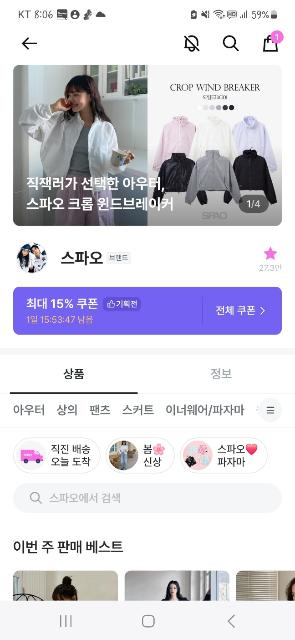Card: (14, 288, 282, 334)
EditText: (13, 484, 283, 512)
Icon: (263, 31, 285, 51), (182, 35, 202, 53), (223, 34, 238, 51), (22, 36, 38, 50), (264, 246, 278, 260), (31, 492, 42, 504), (107, 300, 115, 308), (261, 306, 265, 316)
Image: (14, 65, 282, 225), (17, 242, 47, 274), (16, 440, 46, 470), (109, 440, 139, 470), (183, 440, 213, 470)
ImageButton: (259, 396, 282, 422)
Multi_Tab: (0, 354, 295, 394)
Text: (28, 176, 174, 210), (14, 540, 124, 554), (218, 444, 258, 468), (52, 444, 90, 466), (166, 405, 244, 415), (50, 492, 120, 503), (25, 298, 96, 308), (62, 251, 104, 265), (27, 316, 93, 324), (145, 444, 166, 466), (13, 403, 45, 415), (122, 404, 154, 416), (217, 306, 255, 316), (56, 404, 78, 416), (90, 404, 110, 416), (63, 368, 84, 379), (212, 369, 232, 379), (260, 264, 282, 272), (246, 199, 262, 209), (117, 300, 137, 308), (110, 255, 128, 261)
TextImageButton: (11, 436, 100, 474), (180, 436, 268, 474), (106, 437, 174, 473)
Toolbar: (0, 29, 295, 58)
UpperTaskBar: (0, 0, 295, 28)
